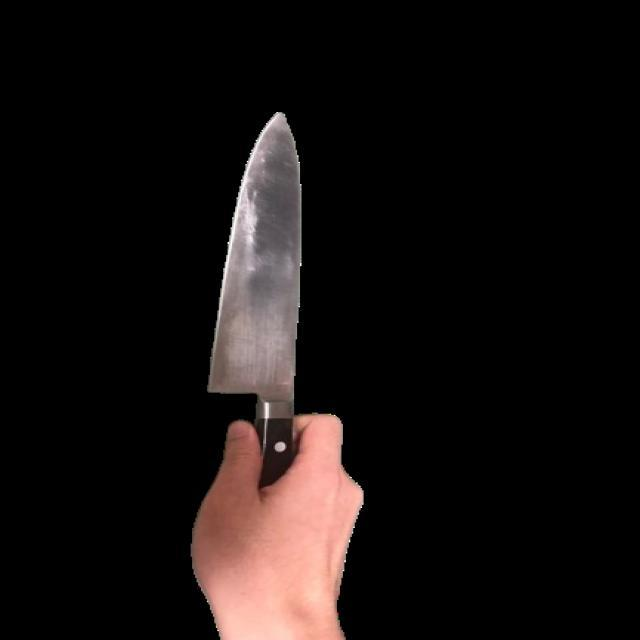knife: (186, 98, 367, 639)
